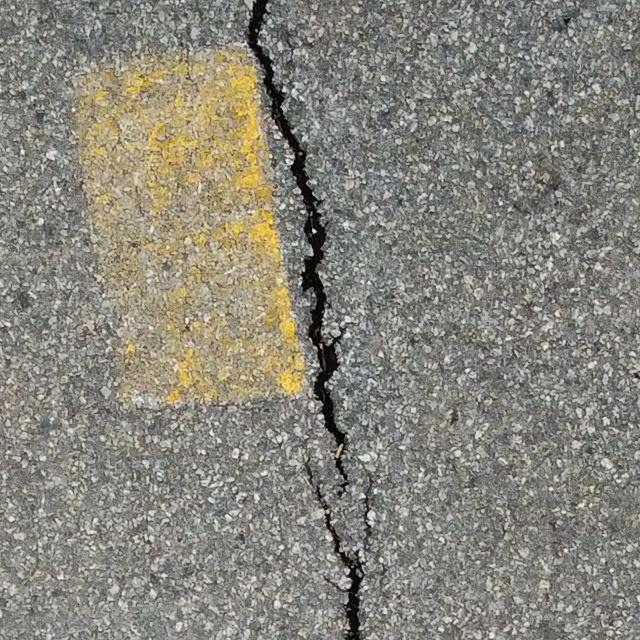LongitudinalCrack: (246, 1, 372, 640)
